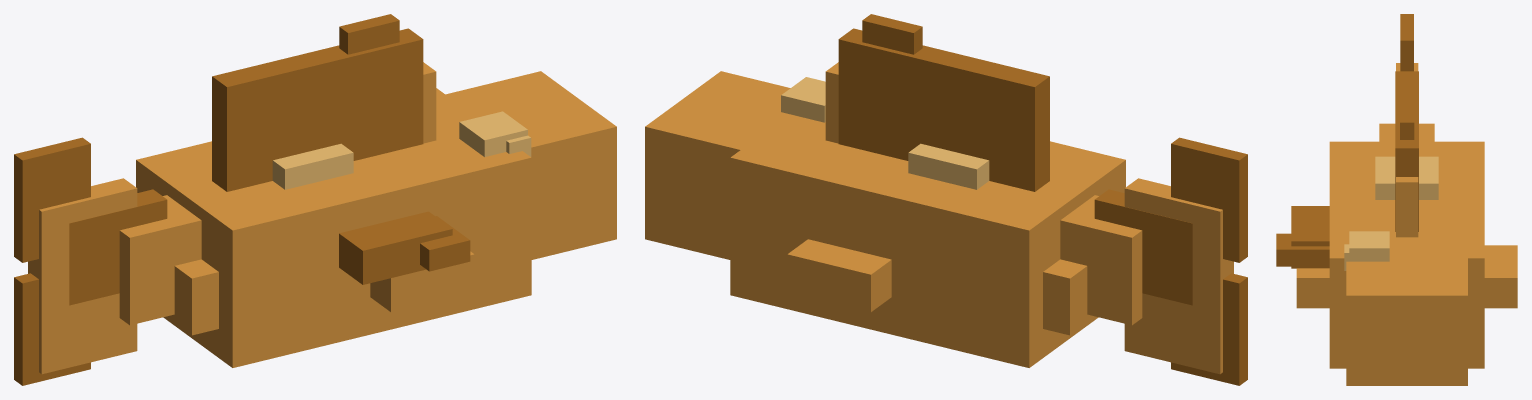
The model's file is fish_amber_snapper.glb.
3 renders of one model, left to right at view 1: azimuth 30°, elevation 25°; view 2: azimuth 150°, elevation 25°; view 3: azimuth 270°, elevation 25°, orthographic. The views are drawn at different scales.
Parts seen in each view (by area): view 1: FishArt_body, FishArt_dorsal, FishArt_tail, FishArt_pectoral, FishArt_specialty, FishArt_eye; view 2: FishArt_body, FishArt_dorsal, FishArt_tail, FishArt_specialty, FishArt_eye; view 3: FishArt_body, FishArt_pectoral, FishArt_dorsal, FishArt_specialty, FishArt_eye, FishArt_tail.
Boxes of the visible parts, <box> form: FishArt_body: <box>28,62,616,374</box>; FishArt_dorsal: <box>212,14,423,191</box>; FishArt_tail: <box>14,137,167,385</box>; FishArt_pectoral: <box>339,211,470,284</box>; FishArt_specialty: <box>272,143,353,189</box>; FishArt_eye: <box>459,111,531,156</box>; FishArt_body: <box>645,62,1233,374</box>; FishArt_dorsal: <box>838,14,1049,191</box>; FishArt_tail: <box>1094,137,1247,385</box>; FishArt_specialty: <box>908,143,989,189</box>; FishArt_eye: <box>781,77,825,122</box>; FishArt_body: <box>1296,63,1517,385</box>; FishArt_pectoral: <box>1276,206,1329,268</box>; FishArt_dorsal: <box>1395,71,1418,231</box>; FishArt_specialty: <box>1375,156,1438,199</box>; FishArt_eye: <box>1344,231,1389,270</box>; FishArt_tail: <box>1400,14,1413,71</box>.
Bounding box in the file's own units: 0.3091 × 0.1442 × 0.1439.
